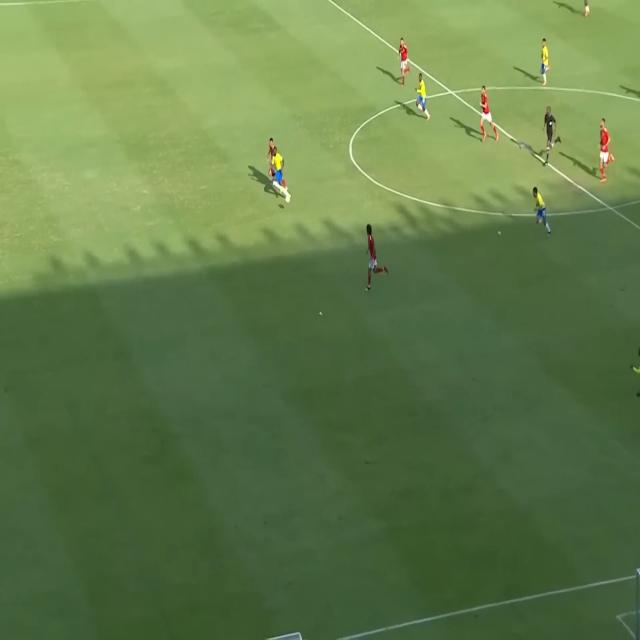Ball: (285, 194, 290, 204)
Player: (367, 224, 389, 293), (266, 136, 288, 191), (479, 85, 500, 142), (270, 146, 292, 200), (598, 117, 614, 183), (532, 185, 552, 236), (414, 71, 430, 120), (398, 37, 410, 88), (540, 38, 552, 87)
Ref: (542, 106, 561, 169)
